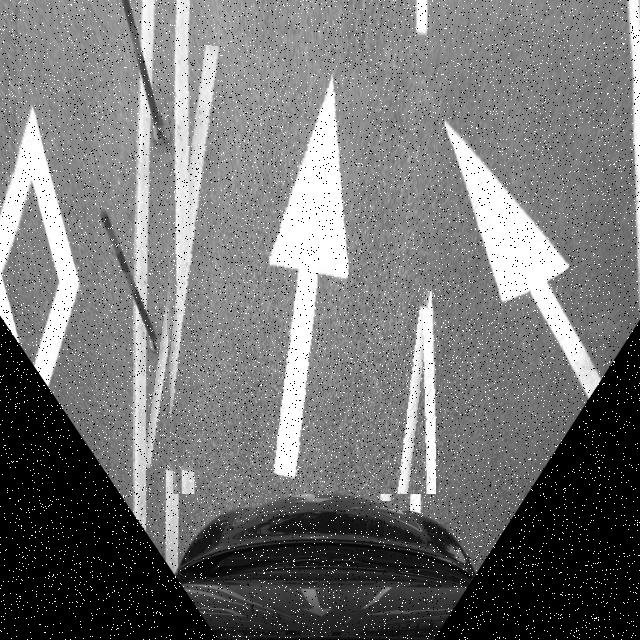forward: (157, 51, 436, 494)
